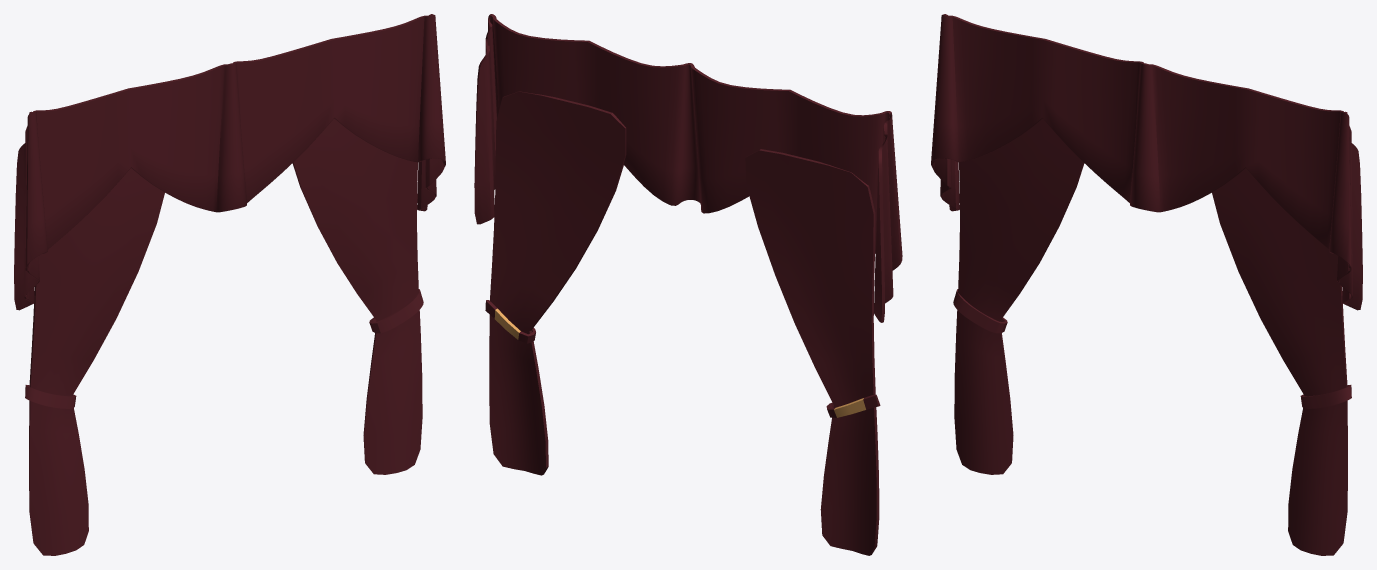
File: curtain.fbx
3 views of the same model, side by side, from view 1: azimuth 30°, elevation 25°; view 2: azimuth 150°, elevation 25°; view 3: azimuth 330°, elevation 25° (orthographic).
Visible parts, largest first — view 1: curtain; view 2: curtain; view 3: curtain.
Boxes of the visible parts, bbox=[...] form: curtain: bbox=[14, 14, 445, 555]; curtain: bbox=[474, 14, 902, 555]; curtain: bbox=[931, 14, 1362, 555].
Bounding box in the file's own units: 4.24 × 0.3575 × 4.34.
